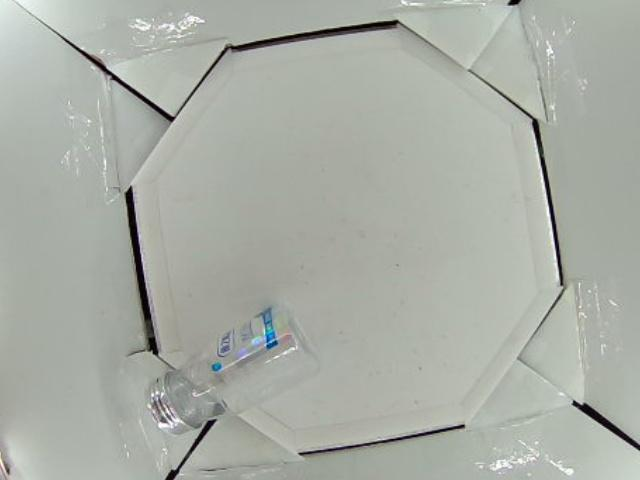Bottle: (144, 301, 322, 439)
